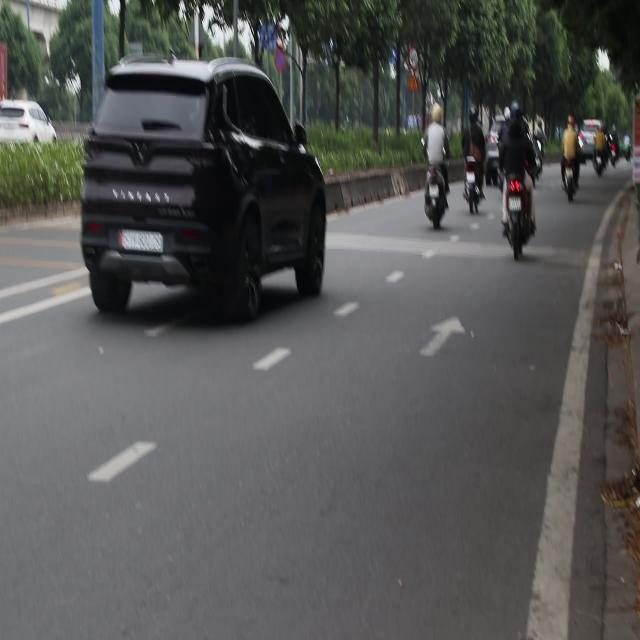car: (77, 48, 333, 322), (488, 111, 532, 189), (0, 100, 54, 148), (578, 119, 602, 161)
motorbike: (505, 186, 534, 266), (424, 171, 449, 235), (462, 154, 482, 218), (561, 162, 578, 211), (594, 146, 605, 189), (612, 129, 617, 172)
